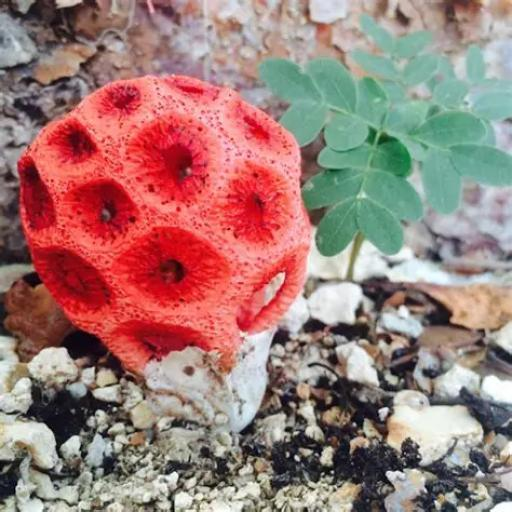mushroom: (12, 68, 318, 418)
